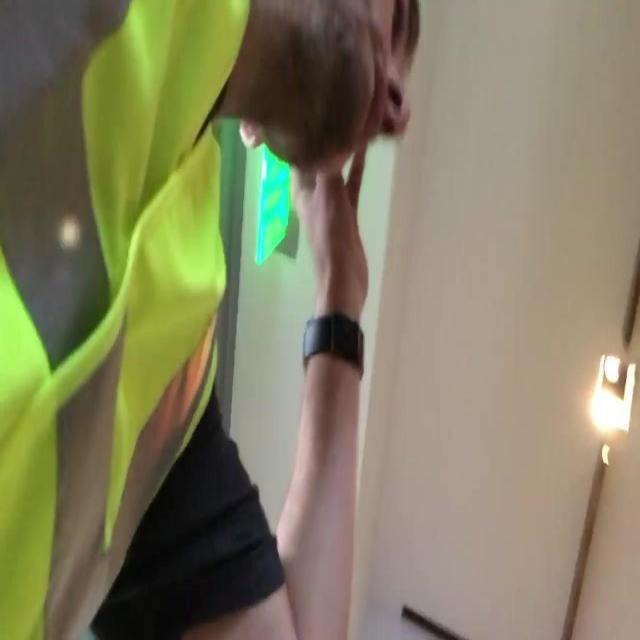Vest: (0, 1, 250, 639)
